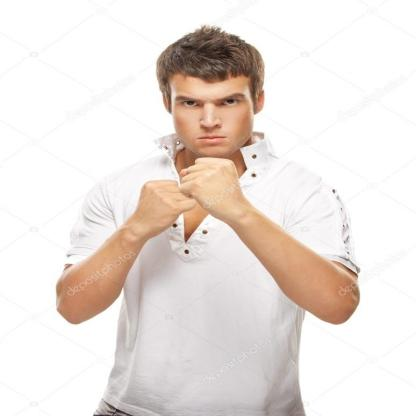fist: (176, 156, 247, 216), (134, 178, 196, 228)
